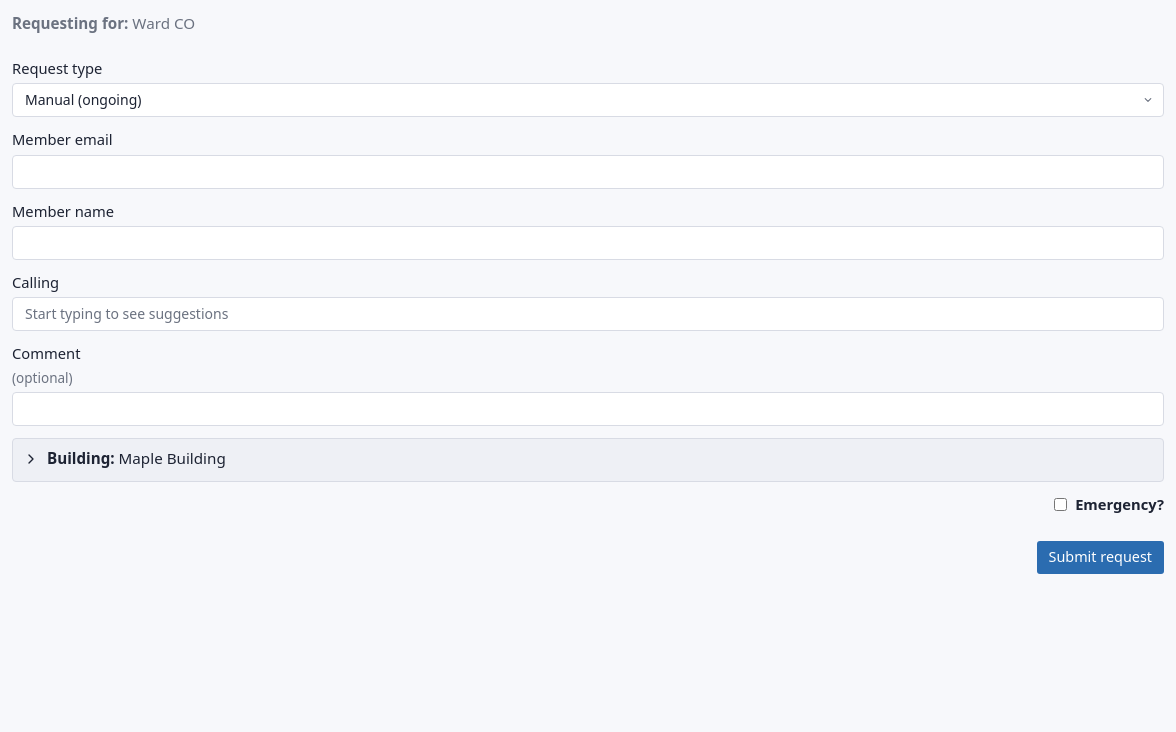
Test case: <NewRequestForm /> — buildings selector defaults › lets a ward submitter deselect their default ward building
What coordinates should you click on to do the following:
click the button with test id "new-request-buildings-trigger"
I would click on:
 (81, 458)
Its box is [23,447,1153,470].
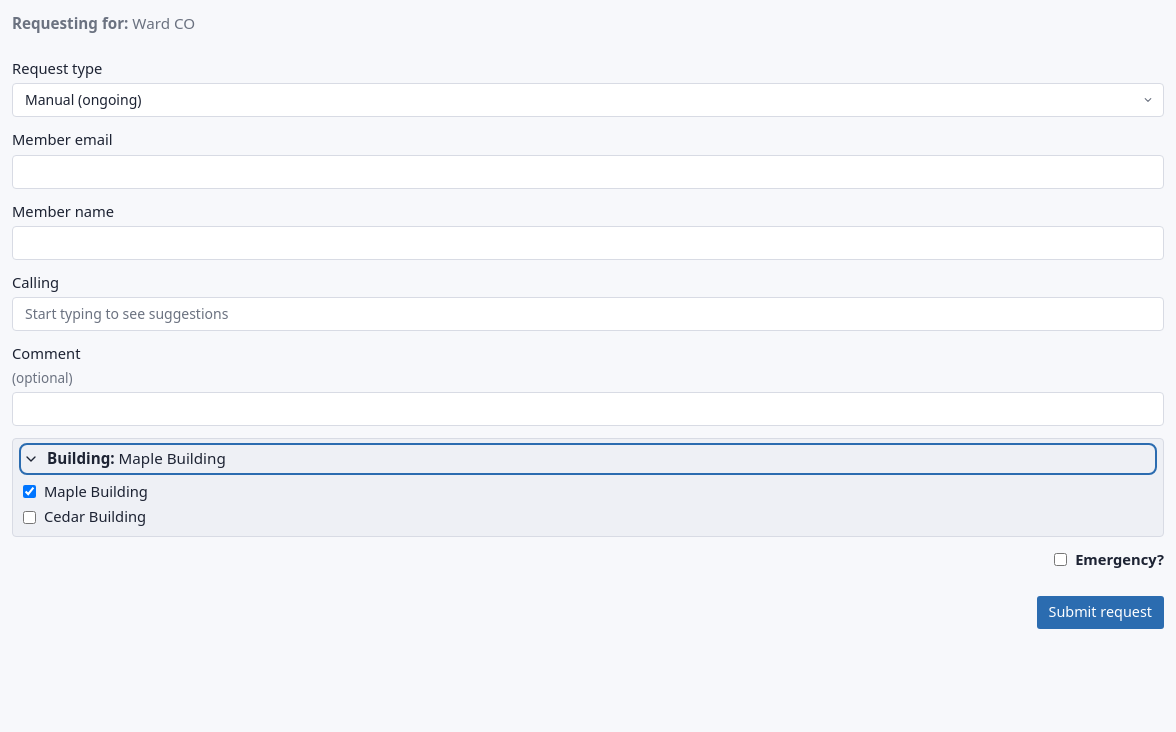
Untick the pre-selected ward building.
What coordinates should you click on to do the following:
click the checkbox with test id "new-request-building-maple"
I would click on:
 (30, 492)
Its box is [23,485,36,498].
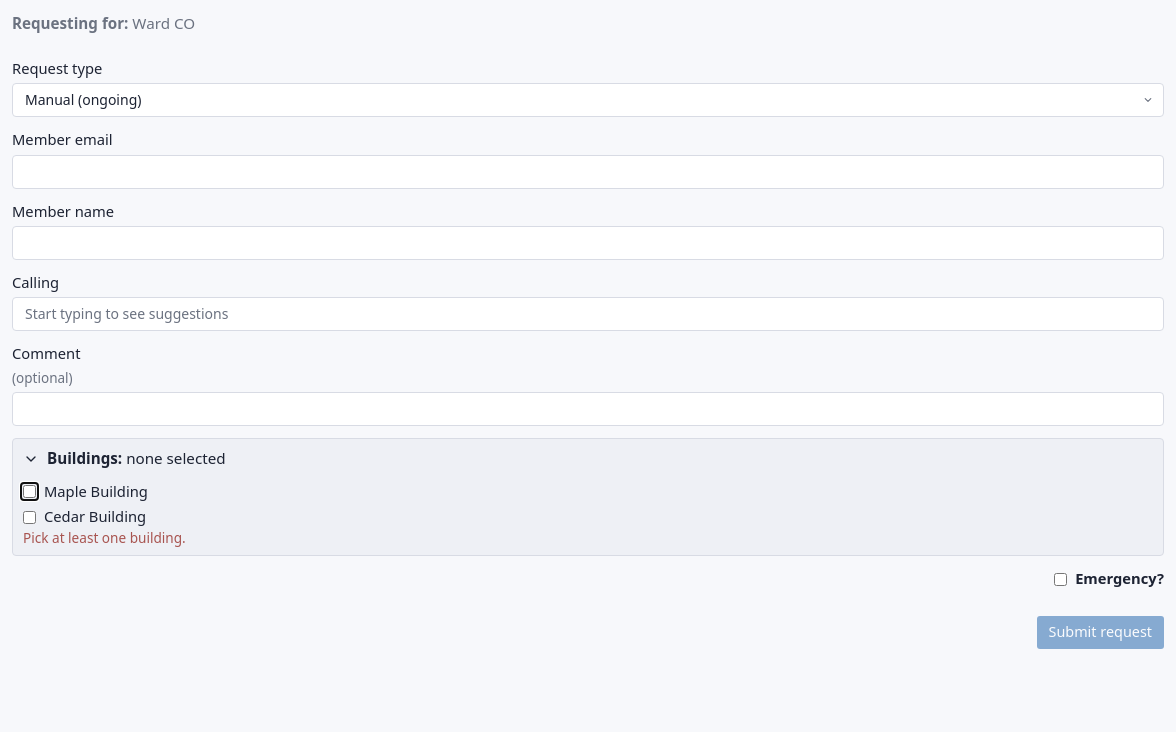
Now the checkbox with test id "new-request-building-maple" is not checked, box [23,485,36,498]
Now the element with test id "new-request-buildings-summary" shows "none selected", box [126,448,226,468]
